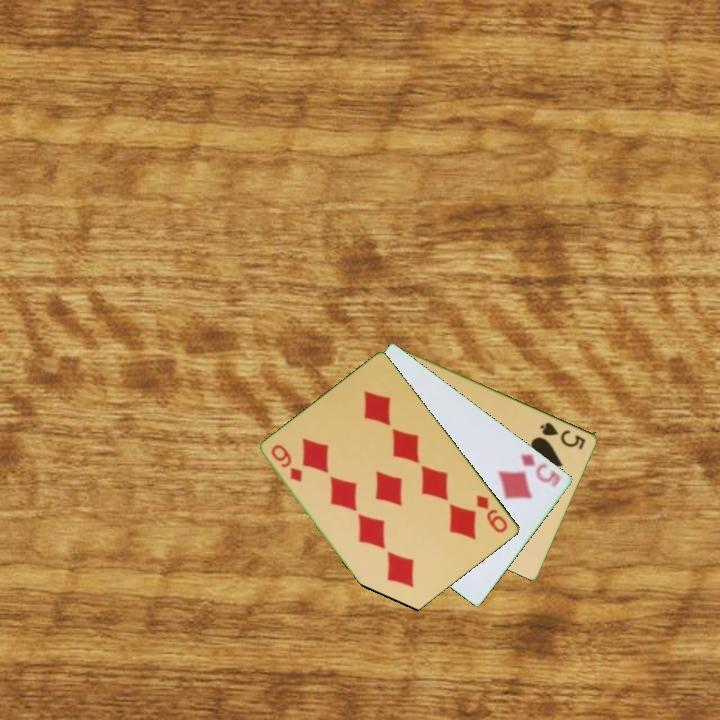5d: (517, 450, 564, 490)
5s: (537, 418, 589, 453)
9d: (473, 491, 511, 536), (268, 441, 306, 485)
